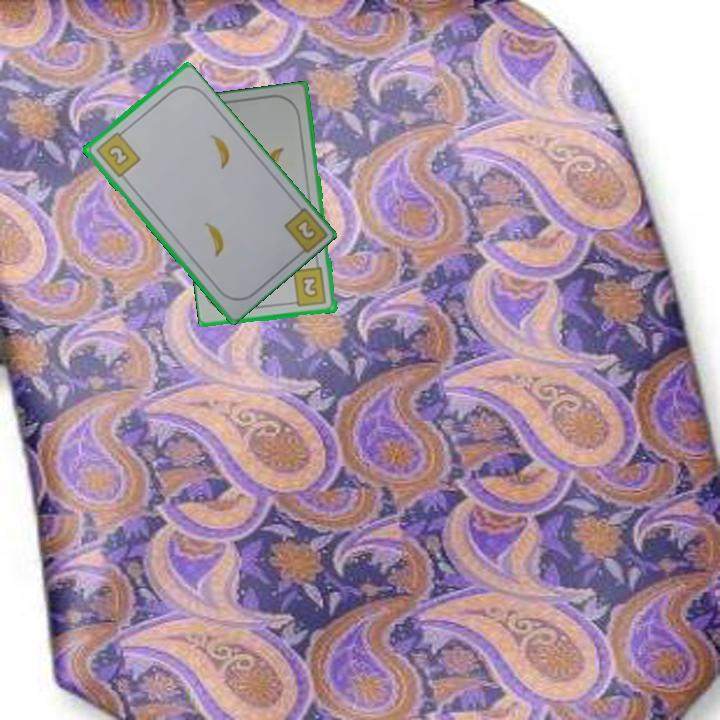2b: (92, 126, 143, 180), (287, 264, 329, 310), (291, 215, 319, 243)
